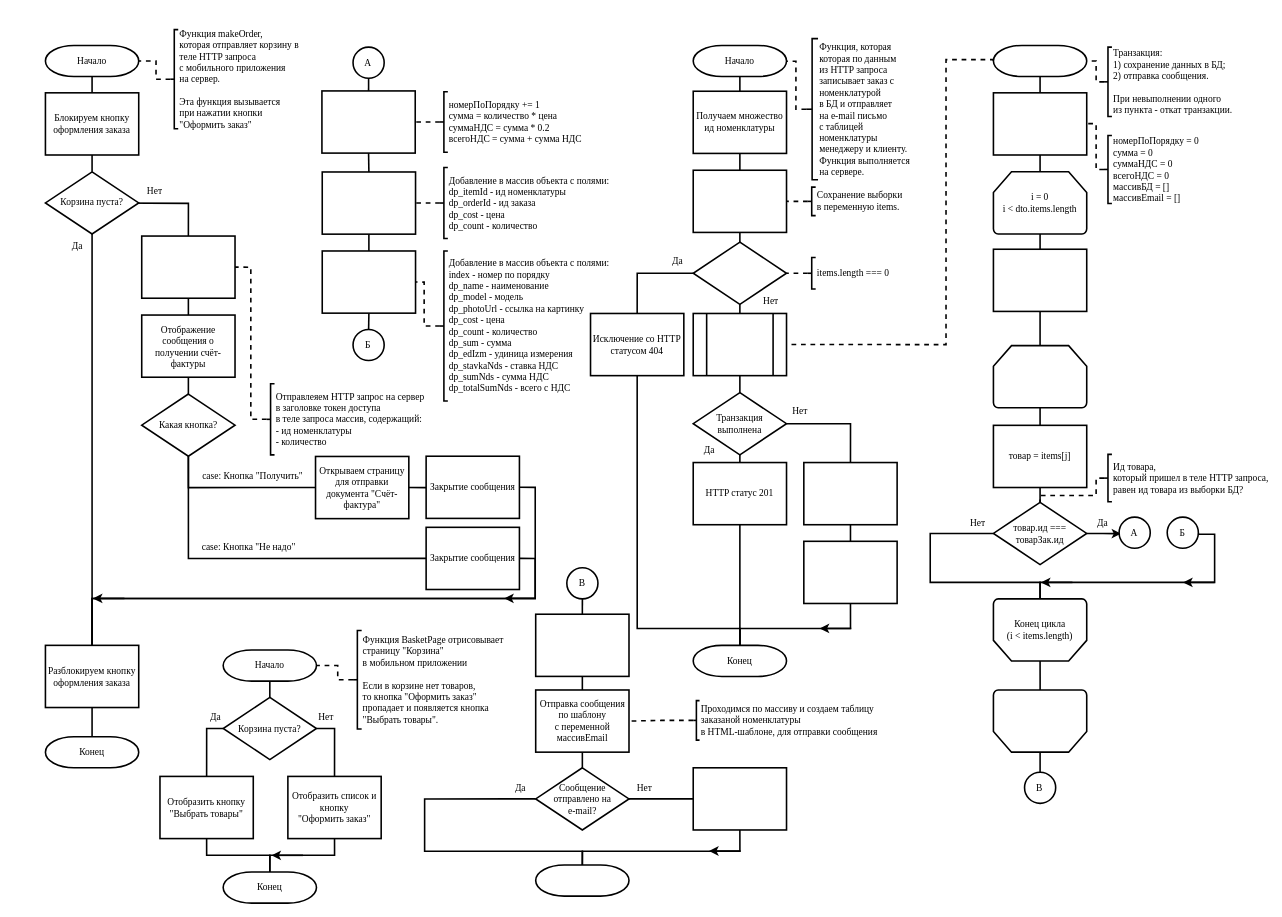
The diagram is 1282 pixels wide and 917 high, and some of its shapes have lost their labels. Each missing label, with the box of its shape:
j = 0 j < items.length: (992, 344, 1087, 408)
Вызов исключения о невыполненой транзакции: (692, 767, 787, 830)
Выполнение транзакции: (692, 312, 787, 376)
Выполняем SQL bulk INSERT из переменной массивБД: (535, 613, 629, 677)
Добавление данных в массив (для отображения на e-mail): (321, 250, 416, 314)
Добавление данных в массив (для сохранения списка номеклатуры в БД): (321, 171, 416, 235)
Исключение с HTTP статусом 409: (803, 540, 898, 604)
Конец транзакции: (535, 864, 629, 896)
Конец цикла (i < dto.items.length): (992, 689, 1087, 753)
Начало транзакции: (992, 44, 1087, 77)
Отбор выборки содержашие ид из множества: (692, 169, 787, 233)
Откат транзакции: (803, 461, 898, 525)
Оформление заявки: (141, 235, 235, 299)
Размер выборки нуль?: (692, 241, 787, 305)
Расчеты: (321, 90, 416, 153)
Создание счетчиков и пустых массивов: (992, 92, 1087, 155)
товарЗак = dto.items[i]: (992, 248, 1087, 312)
